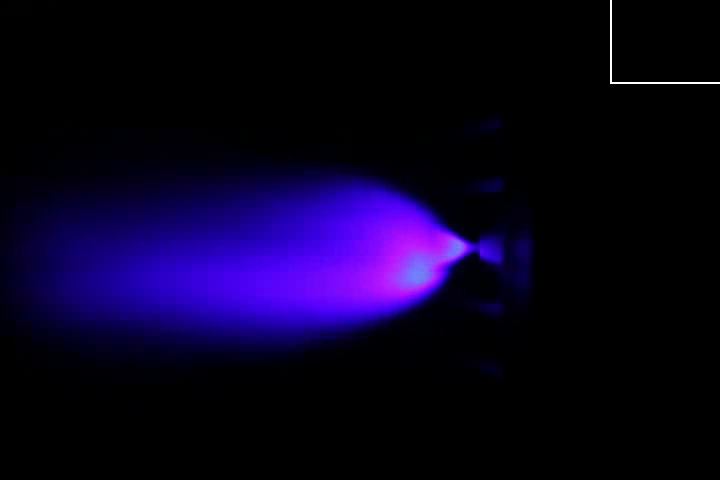burner cap: (475, 234, 506, 268)
stable: (318, 204, 475, 309)
